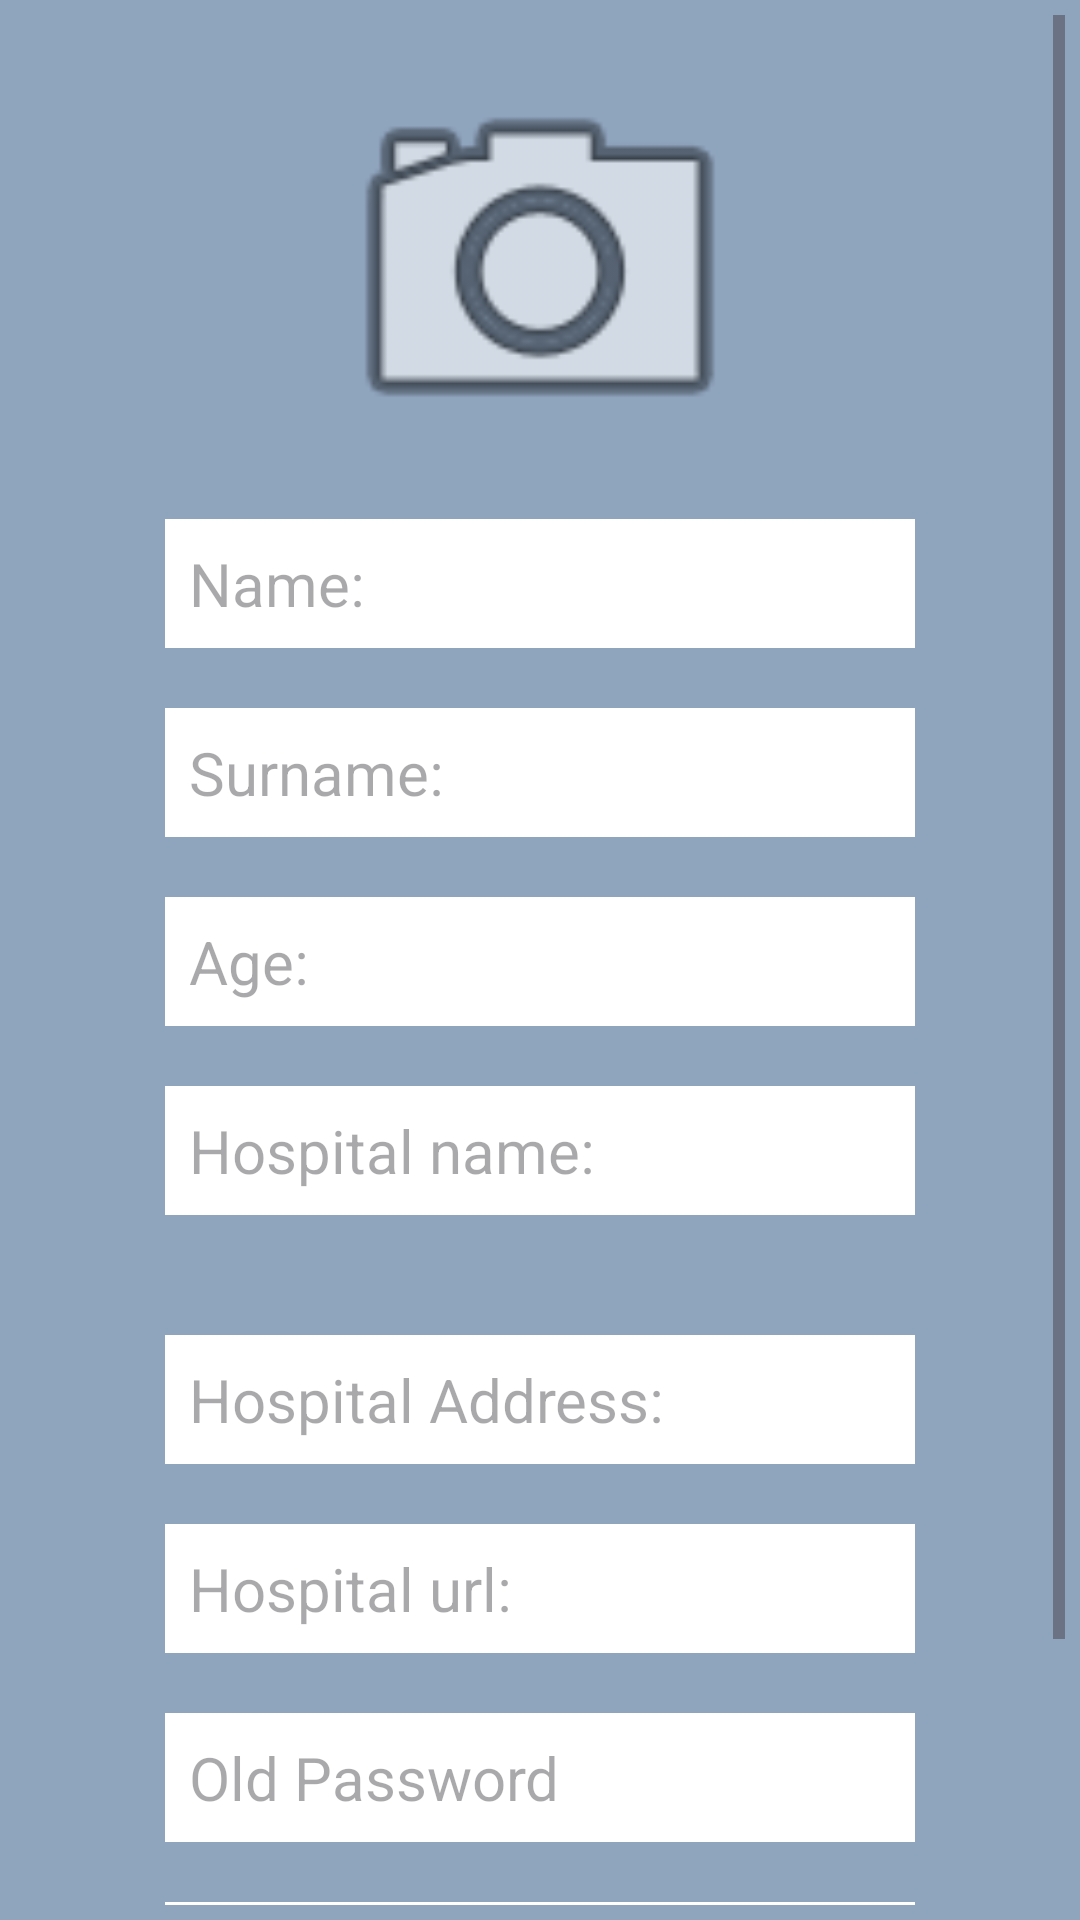

Icon click points for this 1080px x 1920px phone screenshot, format (x=x, y=y):
camera: (x=540, y=257)
